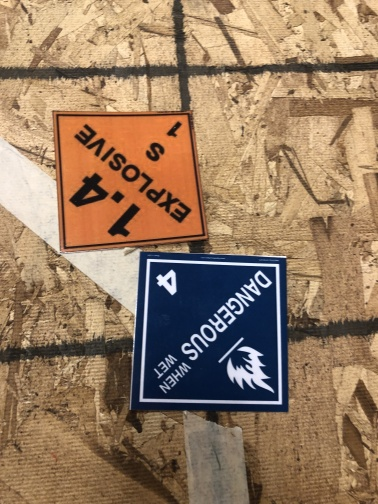DangerousWhenWet: (129, 251, 289, 412)
Explosive: (50, 109, 209, 252)
